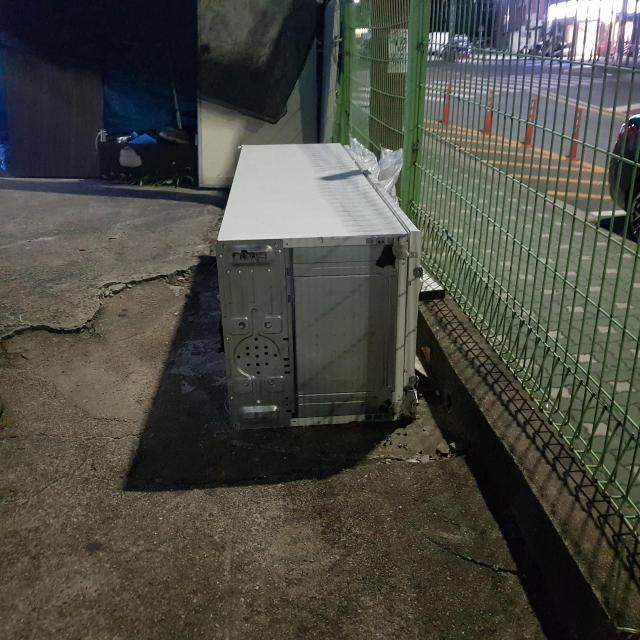refrigerator: (217, 143, 423, 433)
